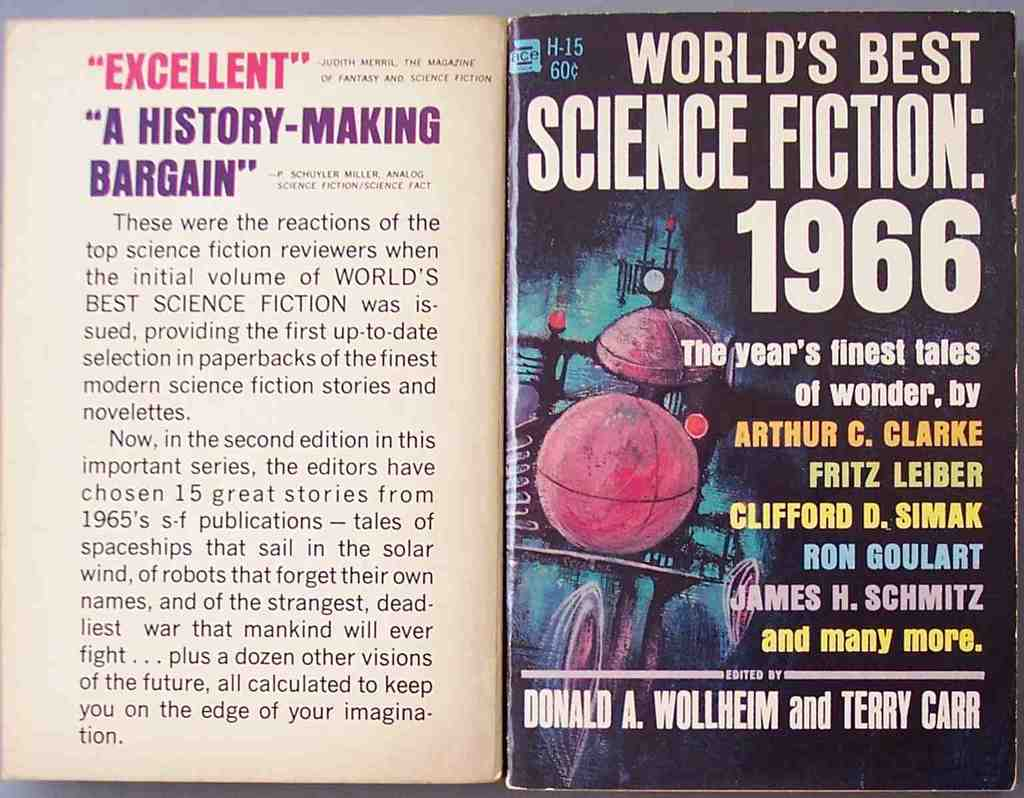Ball: (537, 395, 697, 560)
